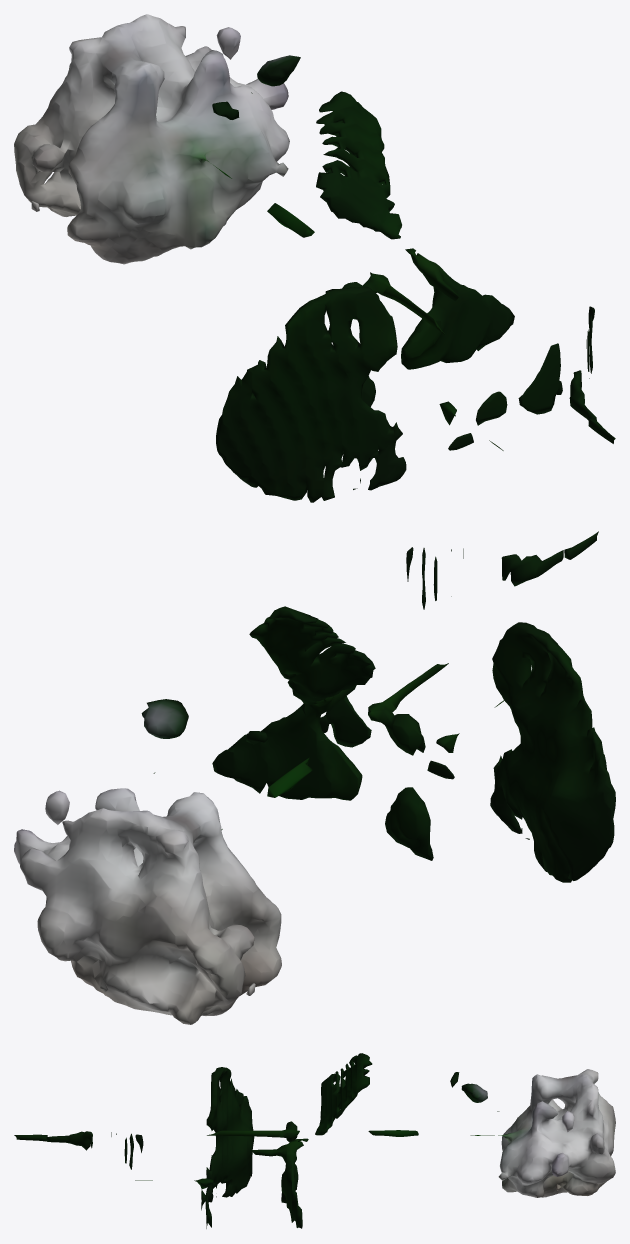
File: White_Rose.FBX
3 renders of one model, top to bottom at view 1: azimuth 30°, elevation 25°; view 2: azimuth 150°, elevation 25°; view 3: azimuth 270°, elevation 25°, orthographic. The views are drawn at different scales.
Visible parts, largest first — view 1: plyFile; view 2: plyFile; view 3: plyFile.
Boxes of the visible parts, <box> form: plyFile: <box>14,14,615,502</box>; plyFile: <box>14,531,615,1024</box>; plyFile: <box>14,1053,615,1228</box>.
Size of the model in its own units: 74.85 by 62.23 by 186.
